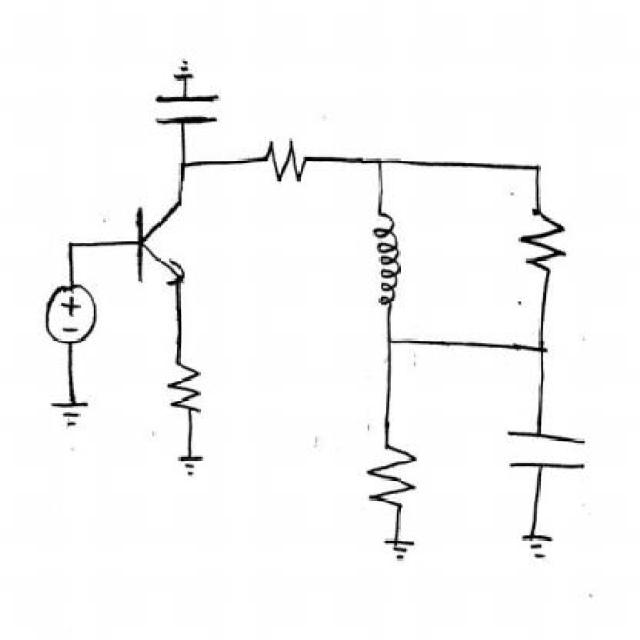capacitor: (500, 423, 602, 480), (150, 91, 232, 133)
ground: (53, 388, 106, 448), (163, 27, 216, 86), (372, 522, 436, 564), (168, 438, 210, 486), (519, 528, 560, 566)
inductor: (363, 207, 409, 315)
resistor: (361, 434, 427, 511), (515, 198, 572, 286), (159, 357, 225, 417), (255, 124, 312, 191)
transistor: (128, 196, 216, 297)
voltage_source: (34, 278, 104, 352)
